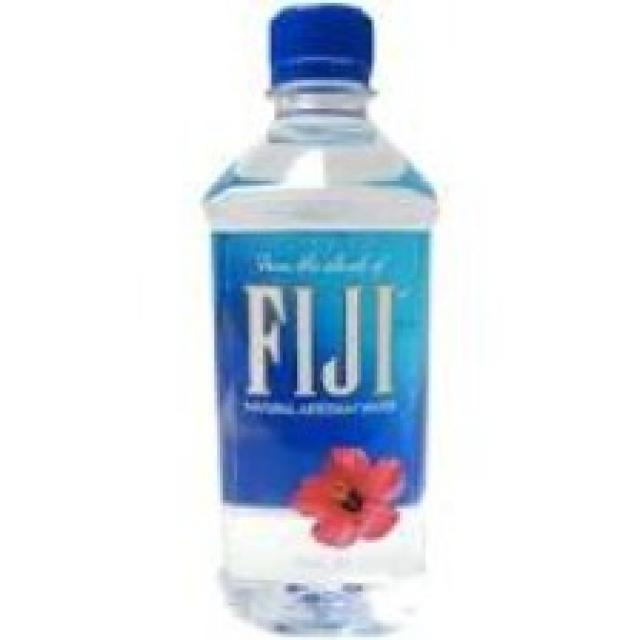plastic_bottle: (197, 7, 448, 640)
